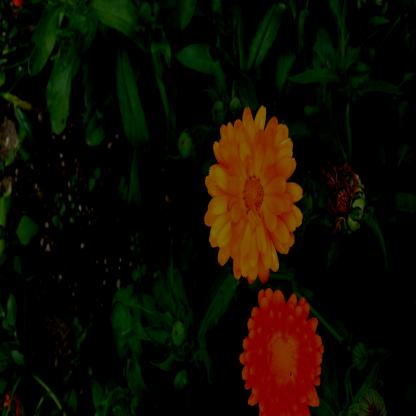marigold: (208, 113, 297, 283), (241, 290, 319, 416)
